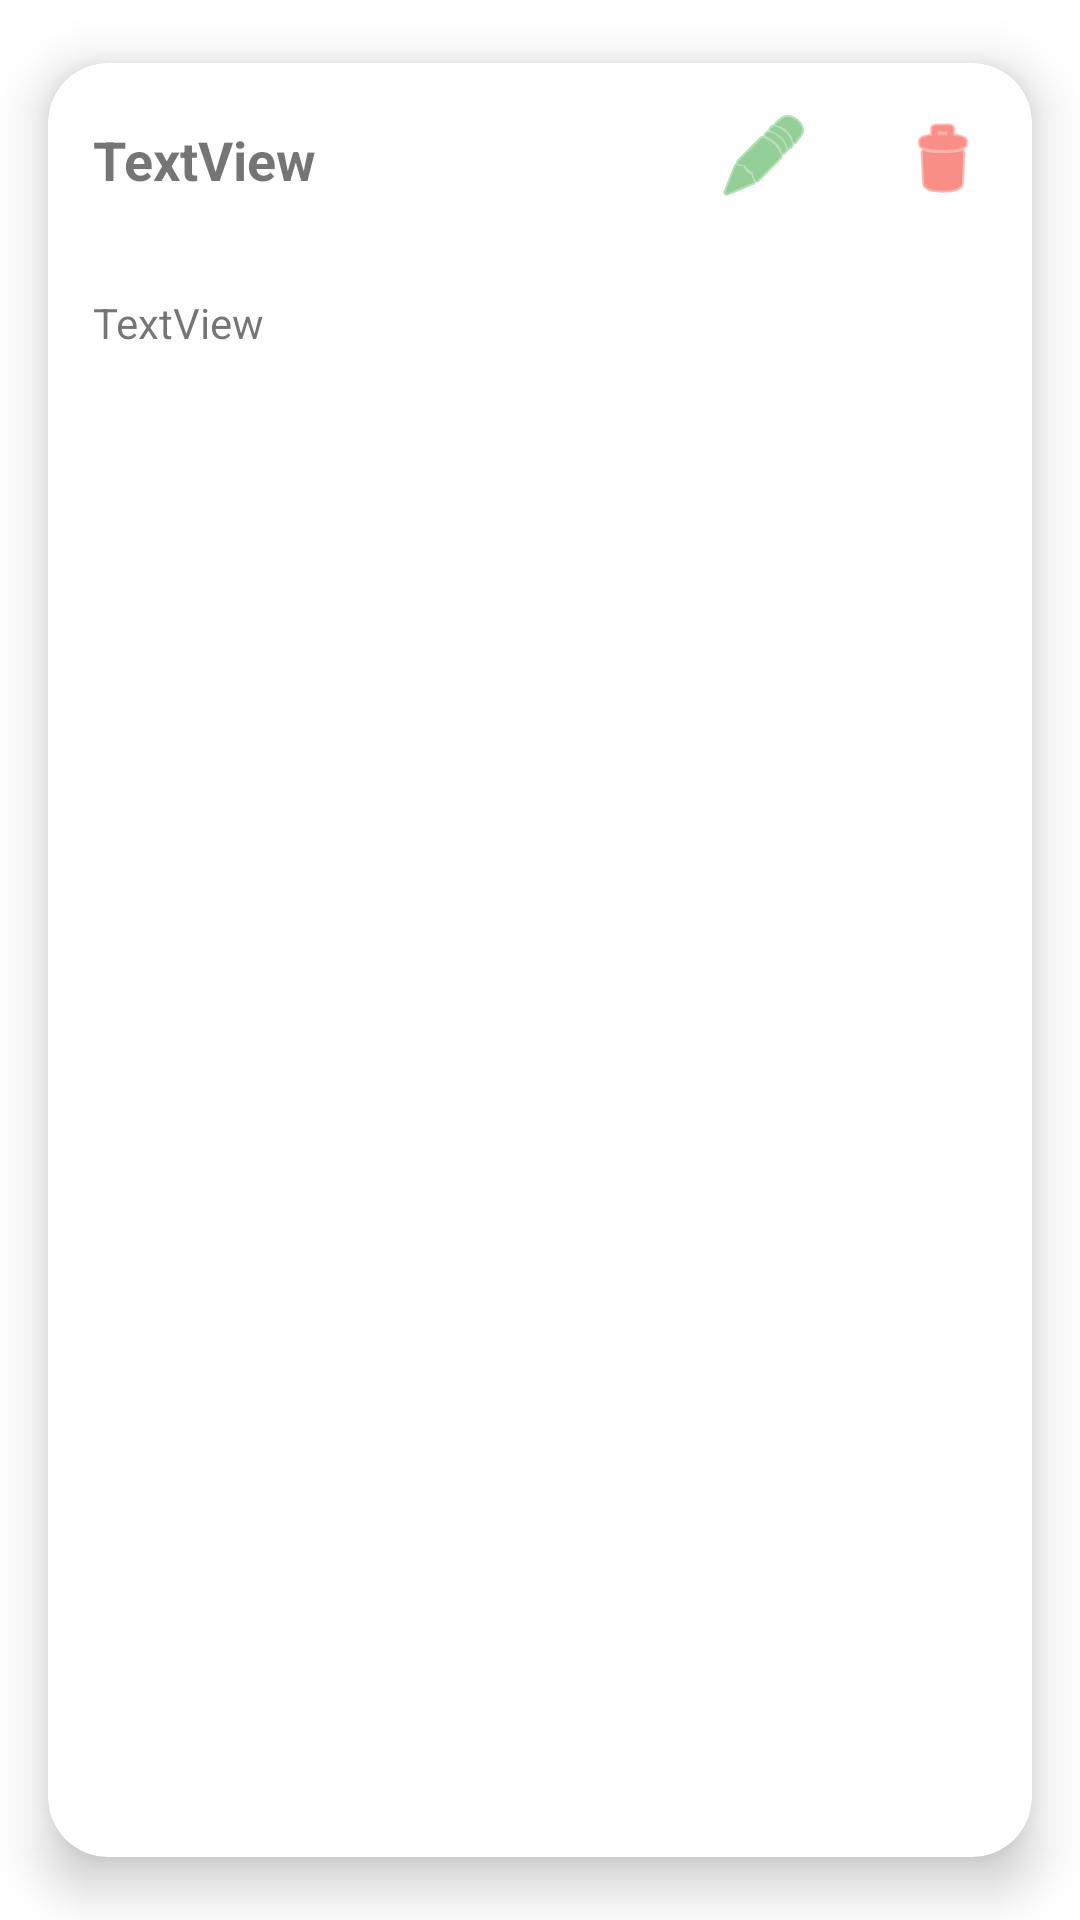

Point at icon controls on the screen. Image size 1080*1920, points as (x,y).
delete: (943,158)
edit: (763,155)
